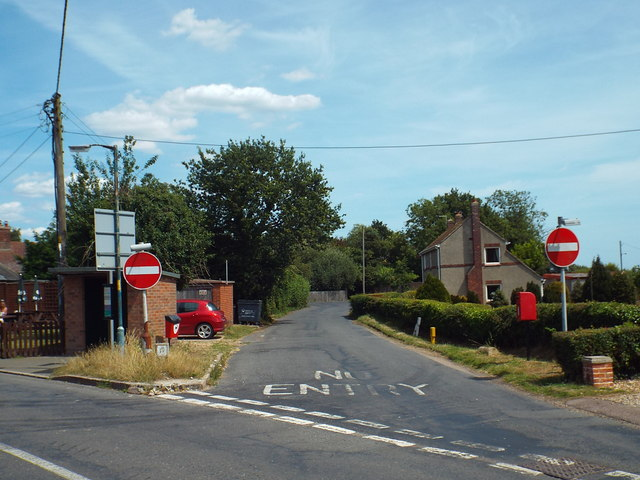No_entry: (123, 251, 163, 289), (545, 227, 580, 267)
